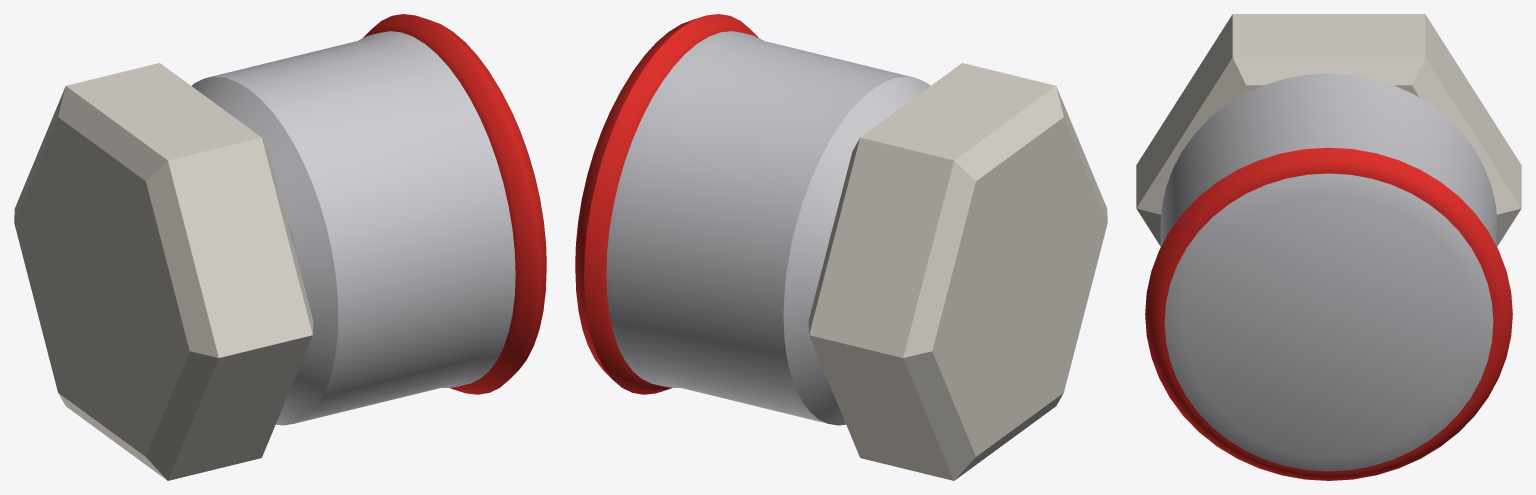
Rendered from fitting_adp_42x112_F_r.glb.
3 views of the same model, side by side, from view 1: azimuth 30°, elevation 25°; view 2: azimuth 150°, elevation 25°; view 3: azimuth 270°, elevation 25° (orthographic). The views are drawn at different scales.
Visible parts, largest first — view 1: шестигранник переходника, раструб, кольцо пресс; view 2: шестигранник переходника, раструб, кольцо пресс; view 3: раструб, шестигранник переходника, кольцо пресс.
Part boxes in pixels (x1,y1,x2,y2): шестигранник переходника: (14, 63, 313, 480); раструб: (192, 31, 515, 425); кольцо пресс: (363, 14, 546, 394); шестигранник переходника: (808, 63, 1107, 480); раструб: (606, 31, 929, 425); кольцо пресс: (575, 14, 758, 394); раструб: (1160, 73, 1497, 471); шестигранник переходника: (1136, 14, 1521, 245); кольцо пресс: (1145, 147, 1512, 480).
Bounding box in the file's own units: 0.062 × 0.0573 × 0.06.
